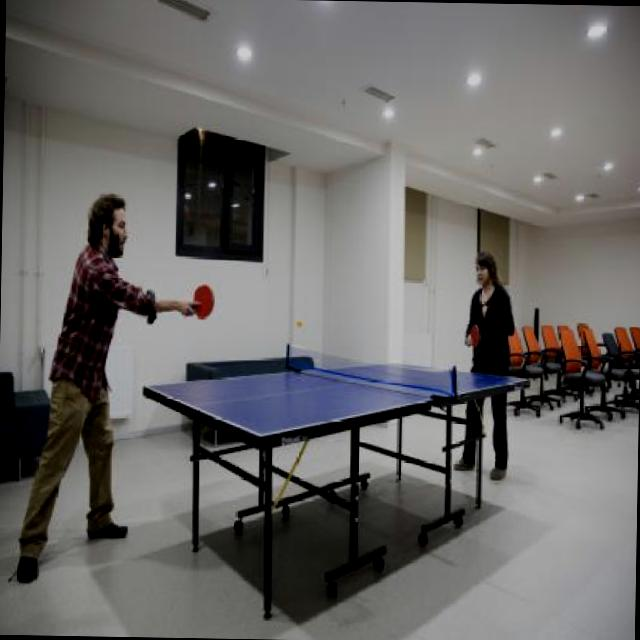Person: (21, 189, 153, 597), (453, 244, 514, 485)
